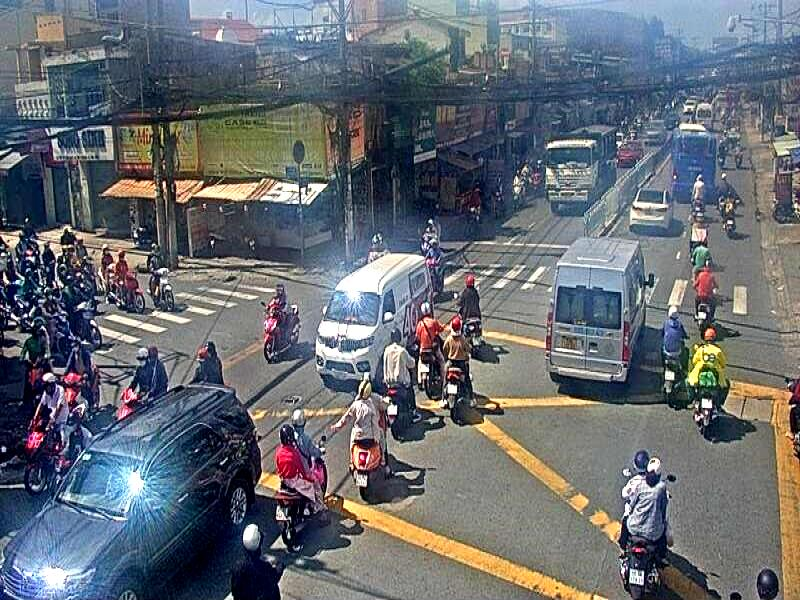bus: (668, 123, 720, 198)
car: (0, 377, 265, 600), (543, 226, 655, 392), (318, 244, 434, 392), (624, 186, 677, 234)
motorcycle: (278, 434, 326, 553), (614, 522, 672, 598), (349, 397, 386, 504), (21, 416, 53, 501), (442, 354, 476, 428), (264, 302, 302, 366), (656, 340, 688, 413), (692, 380, 716, 438), (116, 378, 146, 424), (695, 296, 711, 339)
truck: (546, 120, 621, 221)
